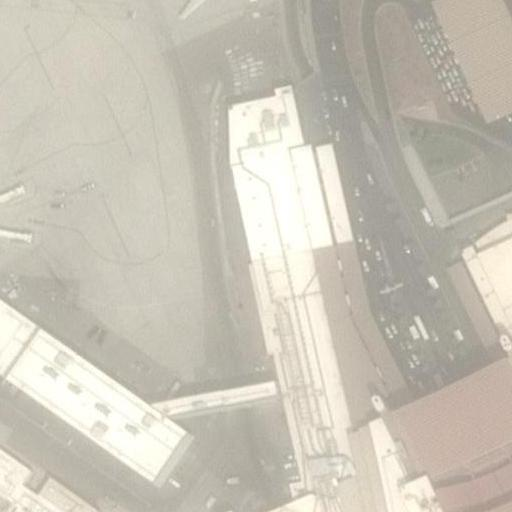Aircraft: (154, 0, 254, 25)
